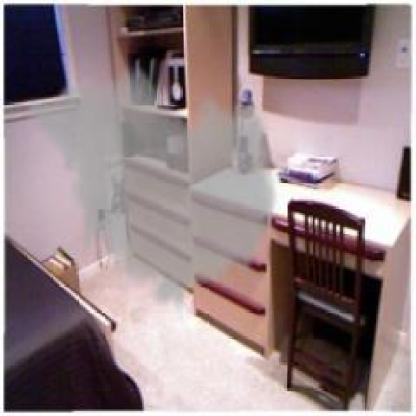Smoke: (24, 57, 281, 316)
